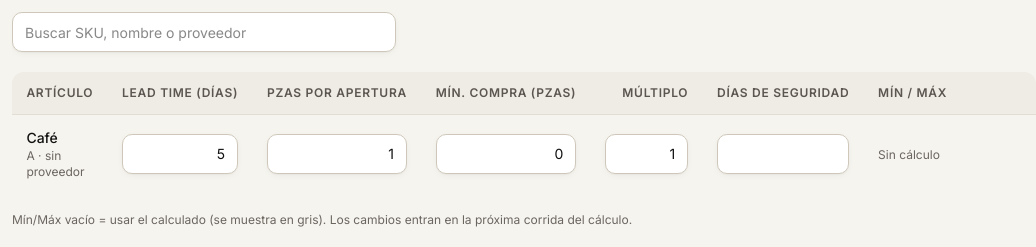
Test case: catálogo › guardar una celda no bloquea las demás
Replace the text in the field named "Lead time (días) de A" with "9" at (180, 154), box [122,134,238,174]
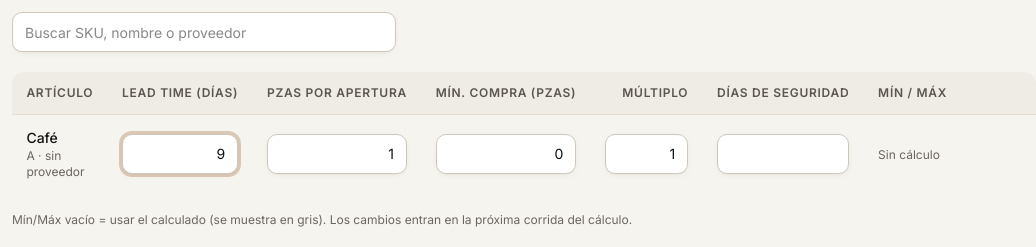
Press Tab
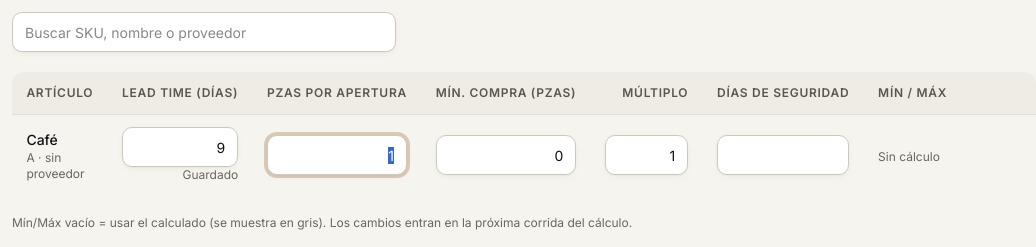
Check: the field named "Piezas por apertura de A" is enabled, box [267,135,407,175]
Check: the text "Guardado" is shown, box [182,167,238,182]
